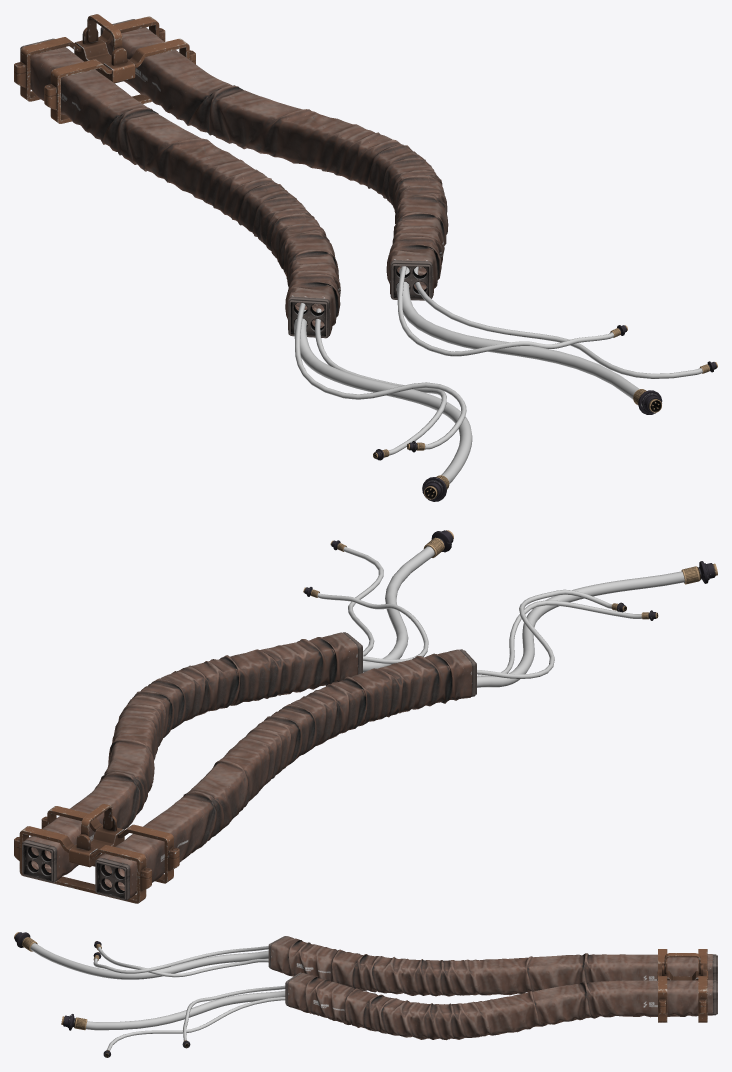
Rendered from SM_Wire02_LineStyle01.fbx.
3 renders of one model, top to bottom at view 1: azimuth 30°, elevation 25°; view 2: azimuth 150°, elevation 25°; view 3: azimuth 270°, elevation 25°, orthographic. The views are drawn at different scales.
Visible parts, largest first — view 1: SM_Wire02_LineStyle01_LOD0; view 2: SM_Wire02_LineStyle01_LOD0; view 3: SM_Wire02_LineStyle01_LOD0.
Part boxes in pixels (x1=…): SM_Wire02_LineStyle01_LOD0: x1=14, y1=14, x2=717, y2=501; SM_Wire02_LineStyle01_LOD0: x1=14, y1=530, x2=717, y2=903; SM_Wire02_LineStyle01_LOD0: x1=14, y1=932, x2=717, y2=1057.
Bounding box in the file's own units: 121 × 311 × 23.74.
4 materials, 1 textured.
